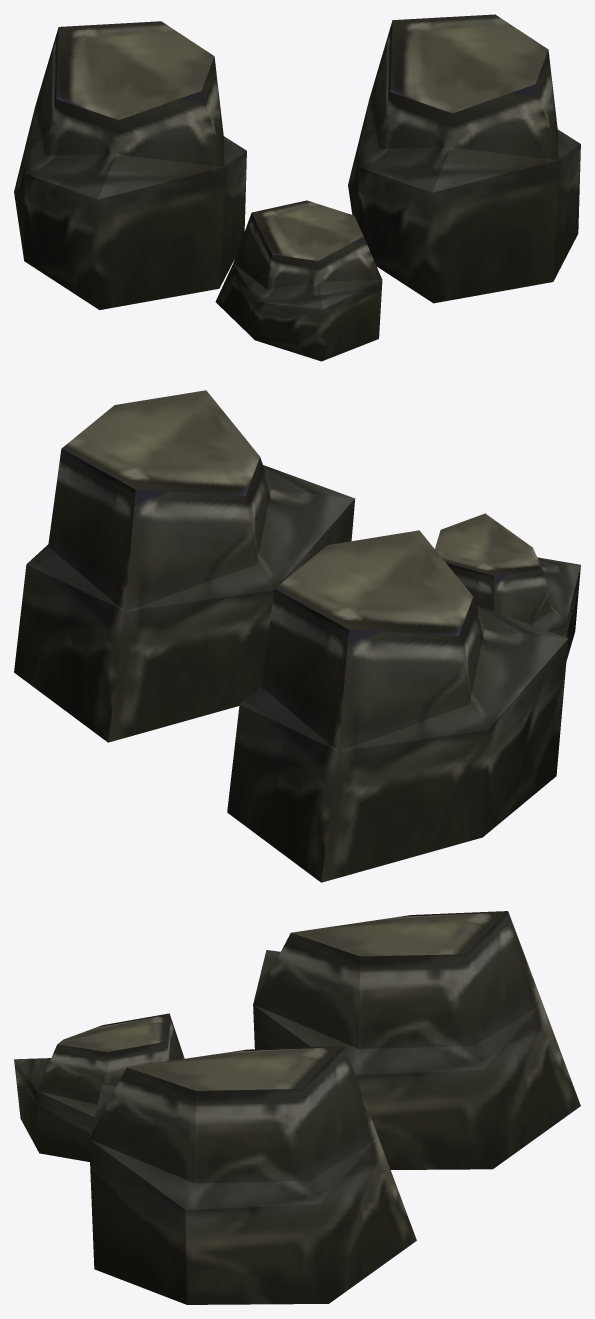
The model's file is Mine_xiaoshitou01.FBX.
3 views of the same model, one above another, from view 1: azimuth 30°, elevation 25°; view 2: azimuth 150°, elevation 25°; view 3: azimuth 270°, elevation 25° (orthographic). The views are drawn at different scales.
Visible parts, largest first — view 1: xiaoshitou01; view 2: xiaoshitou01; view 3: xiaoshitou01.
Part boxes in pixels (x1=…): xiaoshitou01: x1=14, y1=14, x2=580, y2=361; xiaoshitou01: x1=14, y1=390, x2=580, y2=882; xiaoshitou01: x1=14, y1=911, x2=580, y2=1304.
Size of the model in its own units: 69.86 by 27.93 by 71.54.
